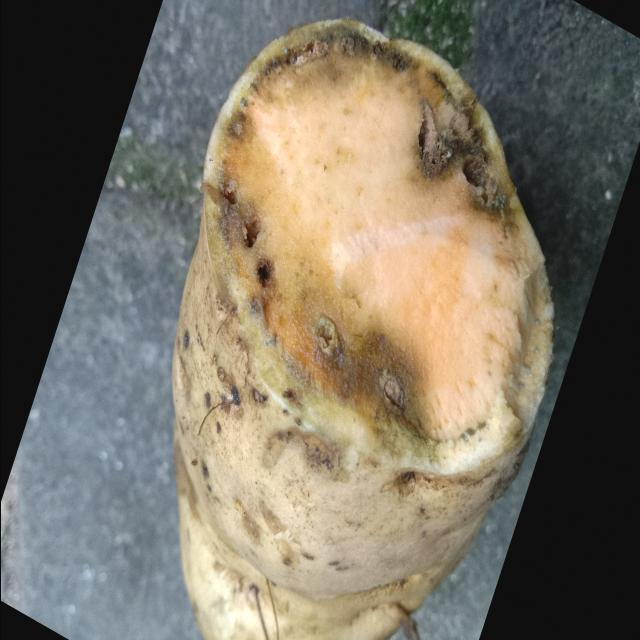Sick Sweet Potato_Tuber Rot: (202, 20, 552, 442)
